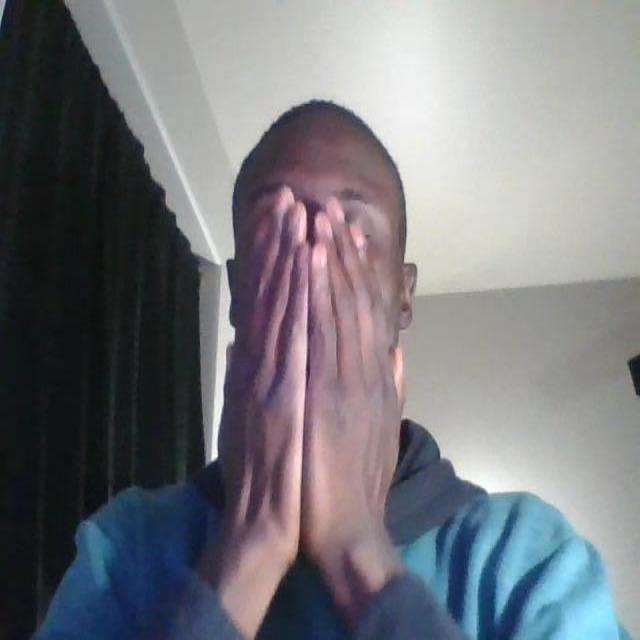no-helmet: (232, 182, 404, 358)
